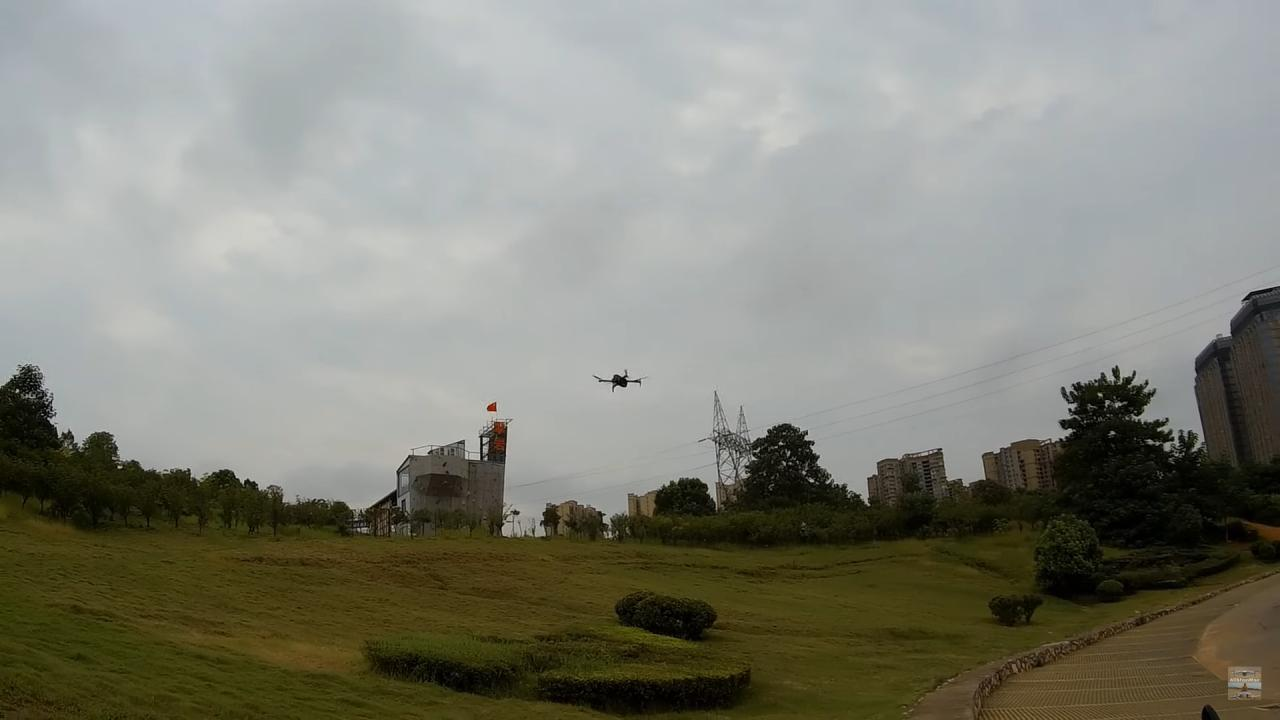Drone: (585, 361, 655, 400)
